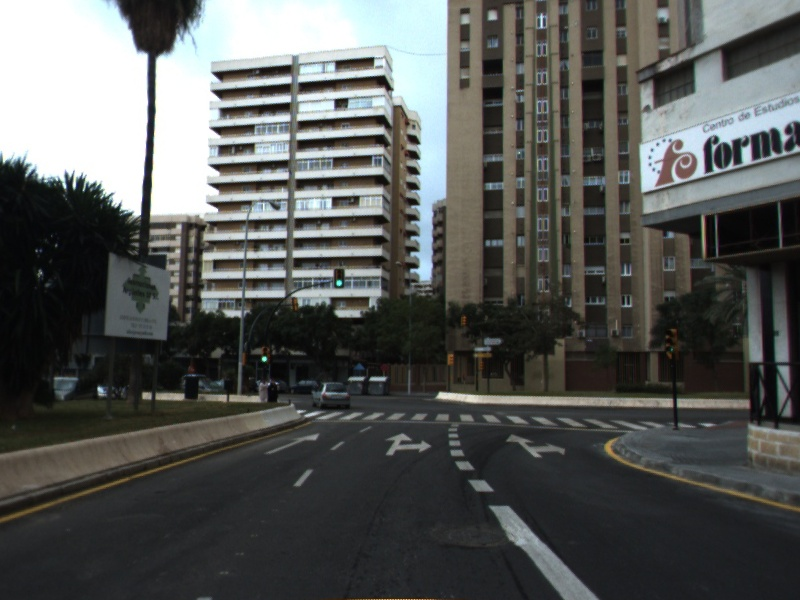STRAIGHT: (261, 430, 322, 456)
STRAIGHT_RIGHT: (504, 432, 567, 460), (382, 431, 434, 457)
